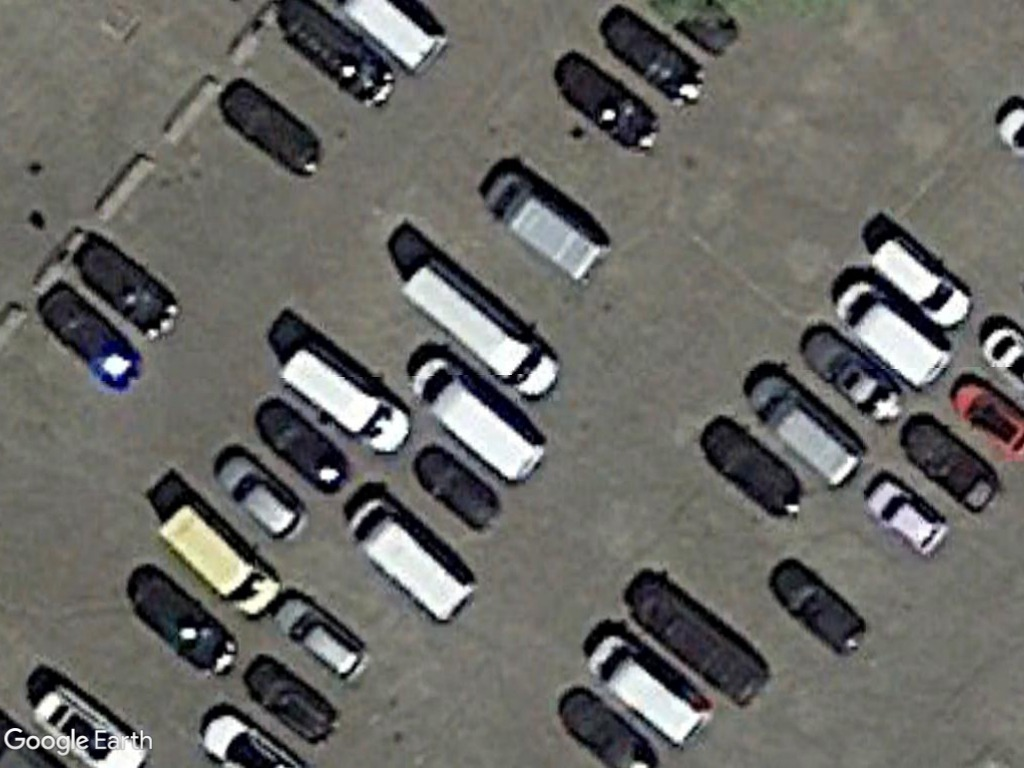car: (866, 233, 973, 333), (211, 451, 309, 547), (273, 595, 374, 679), (862, 476, 949, 558)
van: (392, 254, 561, 403), (408, 349, 553, 490), (341, 488, 476, 625), (583, 631, 720, 753), (274, 342, 414, 459), (474, 165, 605, 290), (152, 498, 285, 620), (744, 369, 866, 491), (830, 275, 954, 390)
